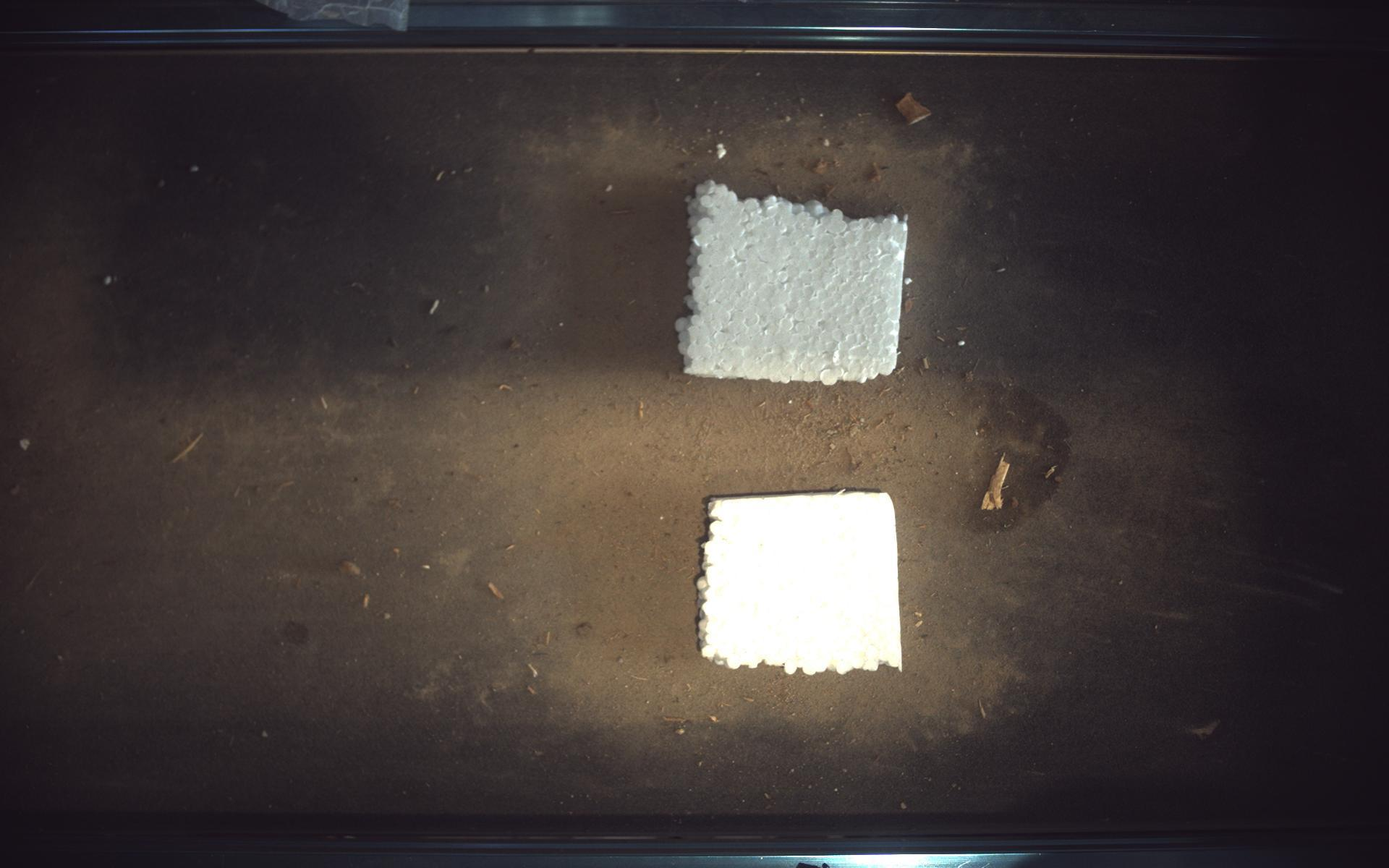foam: (677, 179, 909, 385), (698, 491, 904, 676)
